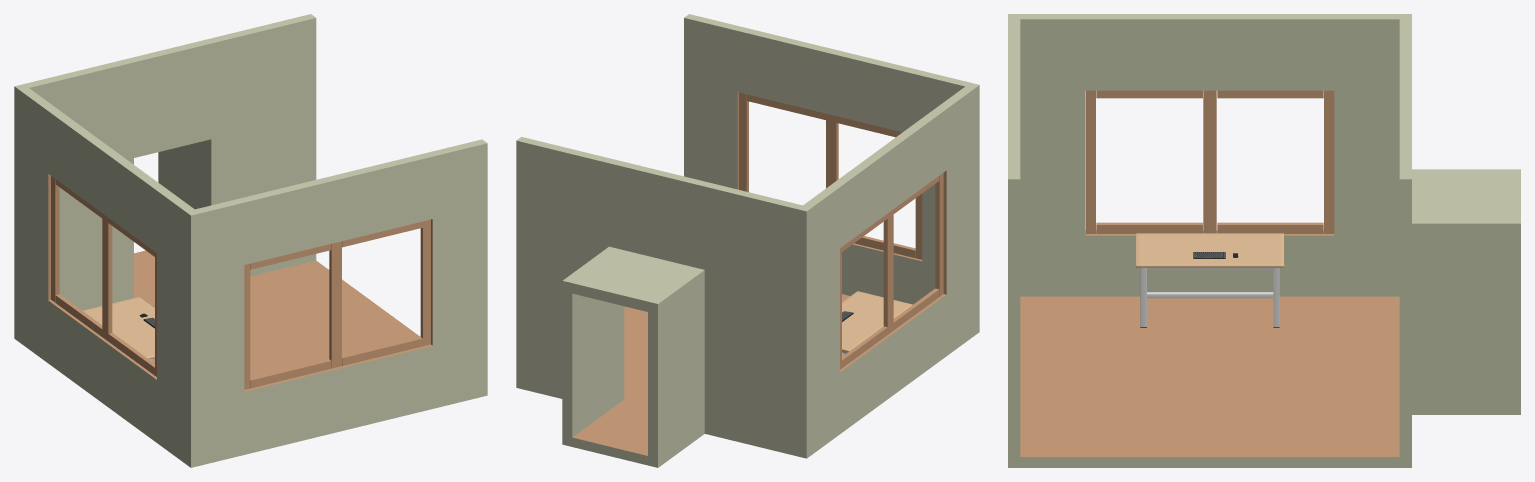
The model's file is Room.glb.
3 renders of one model, left to right at view 1: azimuth 30°, elevation 25°; view 2: azimuth 150°, elevation 25°; view 3: azimuth 270°, elevation 25°, orthographic. The views are drawn at different scales.
Parts seen in each view (by area): view 1: Walls, Window.001, Window, Desk; view 2: Walls, Window, Window.001, Desk; view 3: Walls, Window, Desk.
Boxes of the visible parts, x1=… form: Walls: x1=14, y1=14, x2=487, y2=467; Window.001: x1=244, y1=219, x2=430, y2=389; Window: x1=51, y1=176, x2=156, y2=376; Desk: x1=82, y1=297, x2=154, y2=361; Walls: x1=516, y1=14, x2=979, y2=467; Window: x1=840, y1=173, x2=943, y2=369; Window.001: x1=739, y1=92, x2=922, y2=259; Desk: x1=842, y1=291, x2=912, y2=354; Walls: x1=1008, y1=14, x2=1520, y2=467; Window: x1=1086, y1=90, x2=1334, y2=233; Desk: x1=1136, y1=233, x2=1284, y2=327.
Size of the model in its own units: 2.05 by 1.67 by 2.69.
